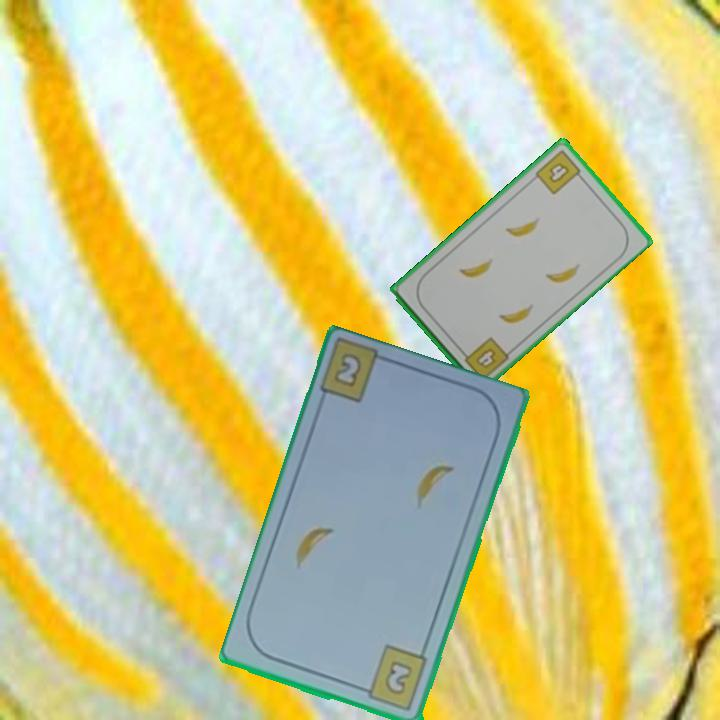2b: (356, 642, 431, 715), (330, 349, 365, 391)
4b: (531, 146, 587, 197), (457, 333, 512, 383)
